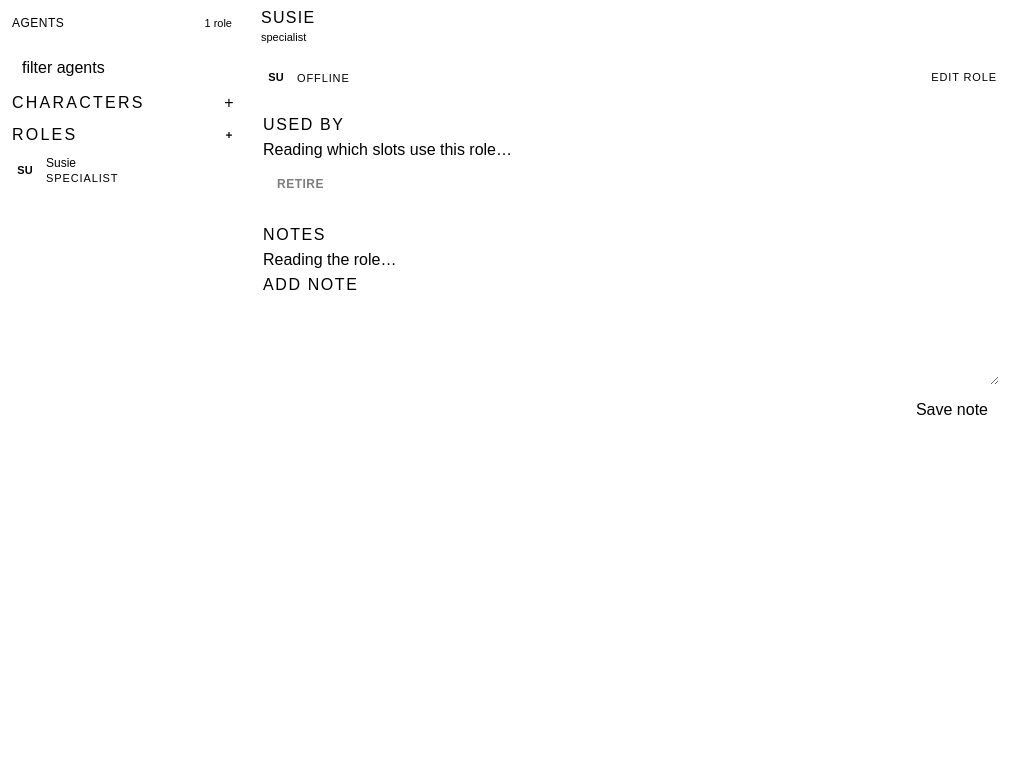
Test: AgentsView › edits a persona from the Agents tab with the shared persona editor
Click the button with aria-label "inspect Susie" at (126, 170), box [0,149,251,191]
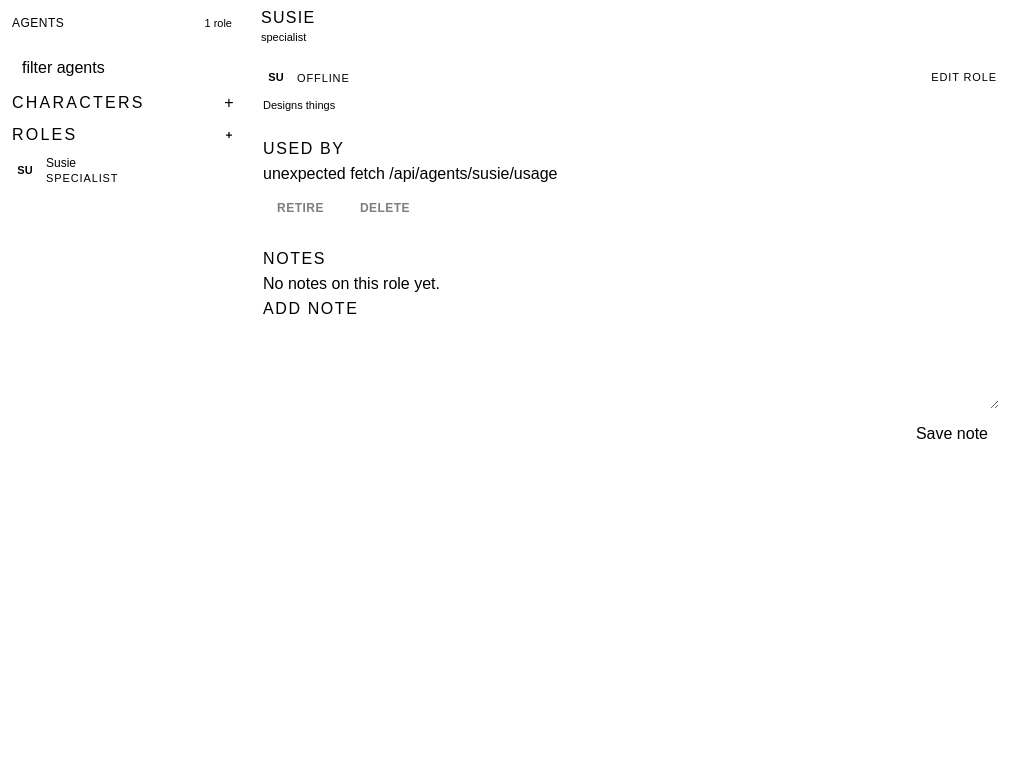
Click the button "Edit role" at (964, 77), box [929,65,999,89]
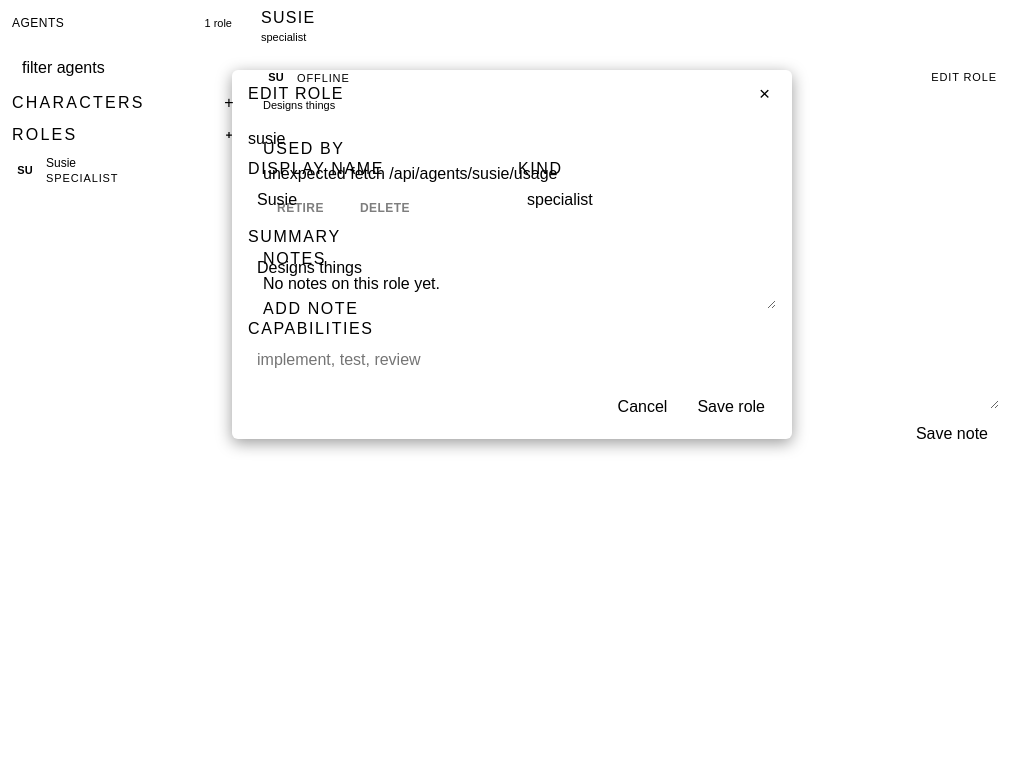
Now the text box named "Role summary" holds "Designs things", box [248,251,776,309]
Replace the text in the field named "Role display name" with "Susie Designer" at (377, 200), box [248,183,506,217]
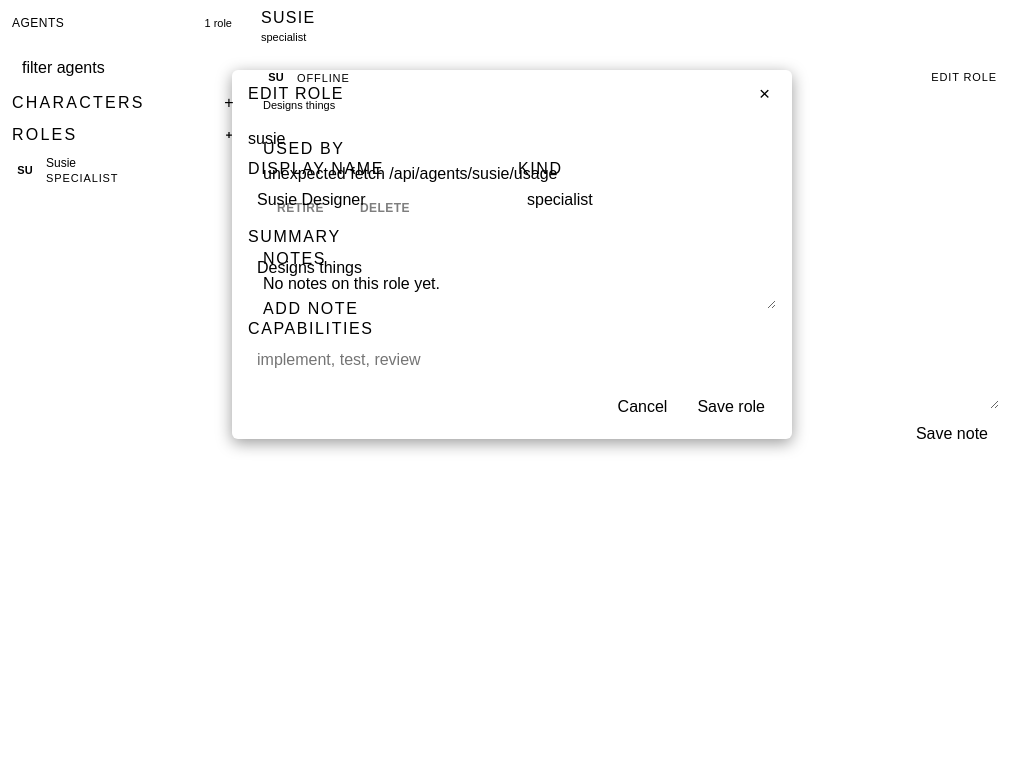
Click the button "Save role" at (731, 407), box [686,391,776,423]
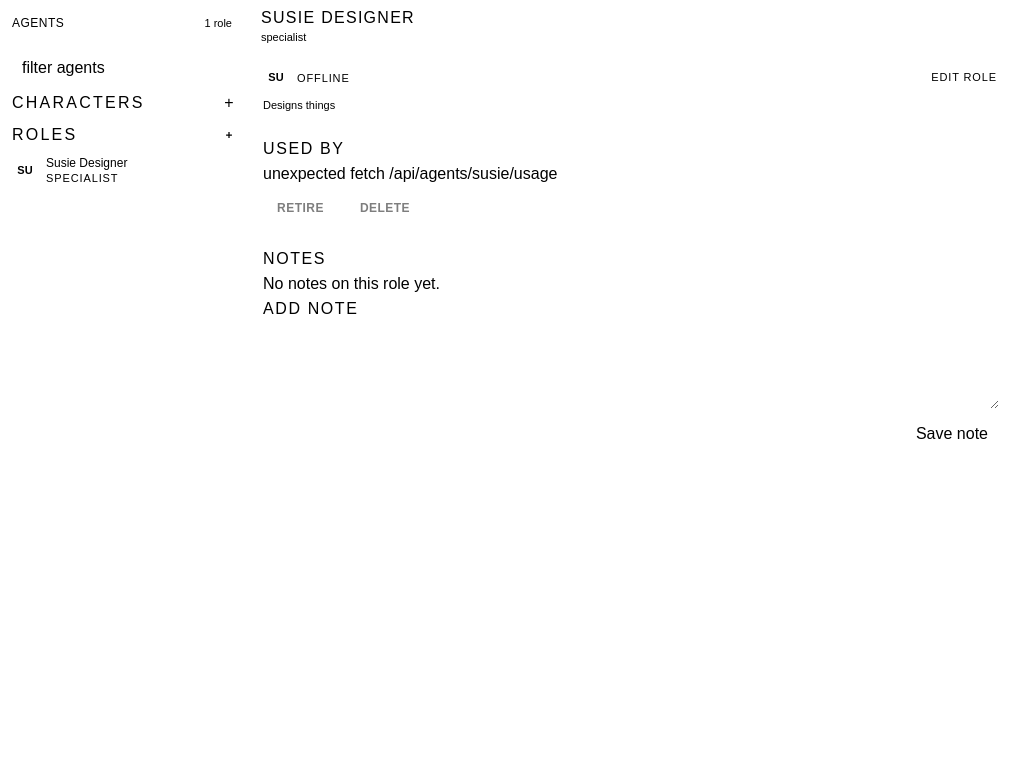
Now the dialog with test id "persona-editor" is gone
Now the button with aria-label "inspect Susie Designer" is shown, box [0,149,251,191]
